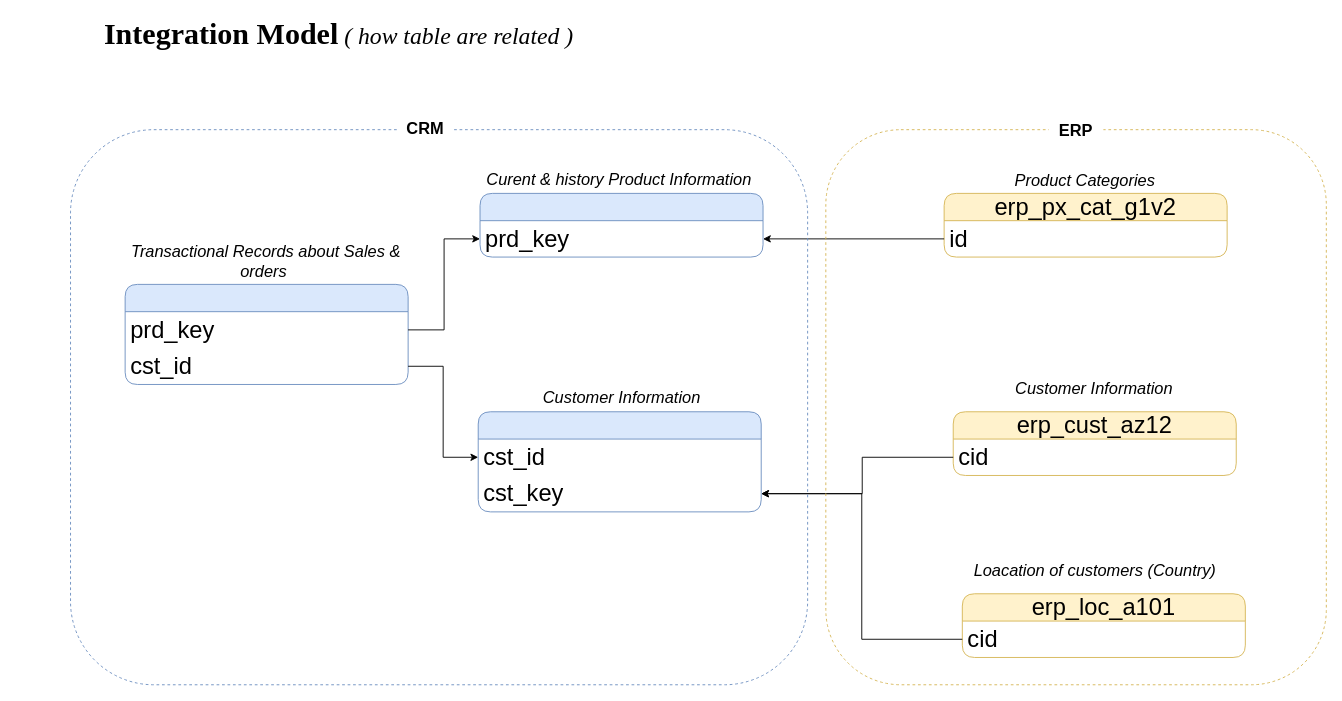
Some shapes in this 1342 by 701 pixel diagram are drawn without their labels. The shapes that lost their labels are listed below. From the top down, each one's box as (x1, y1, x2, y2) in pixels, then its label:
(479, 192, 763, 257): crm_prd_info
(124, 283, 408, 384): crm_sales_details
(477, 411, 761, 512): crm_cust_info
